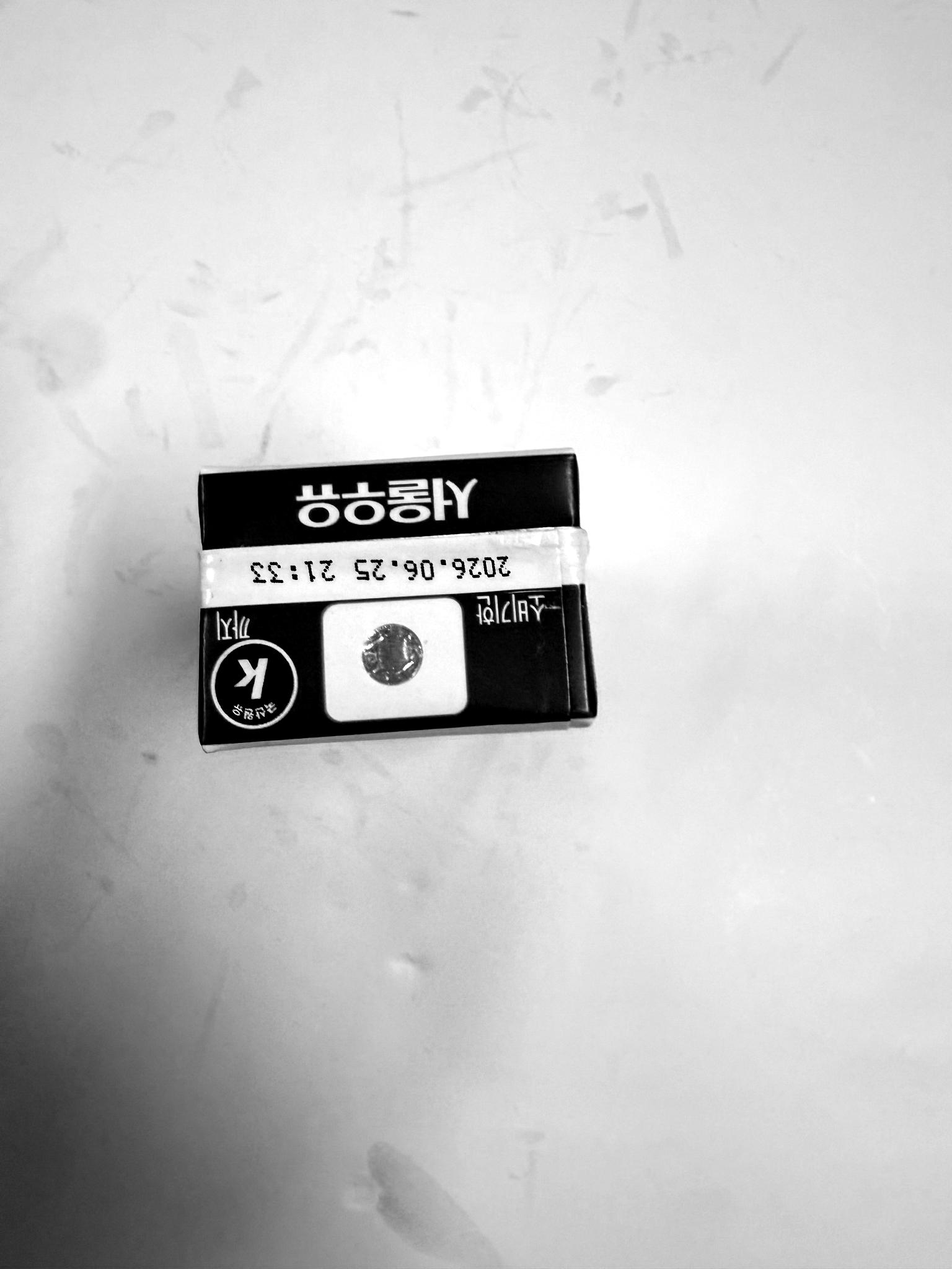milk_green: (200, 452, 598, 746)
